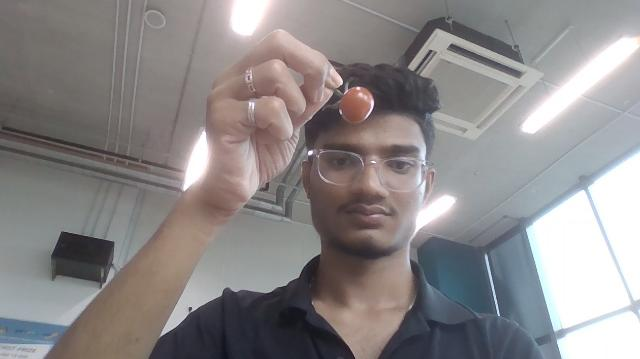Fully Grown: (339, 85, 375, 125)
